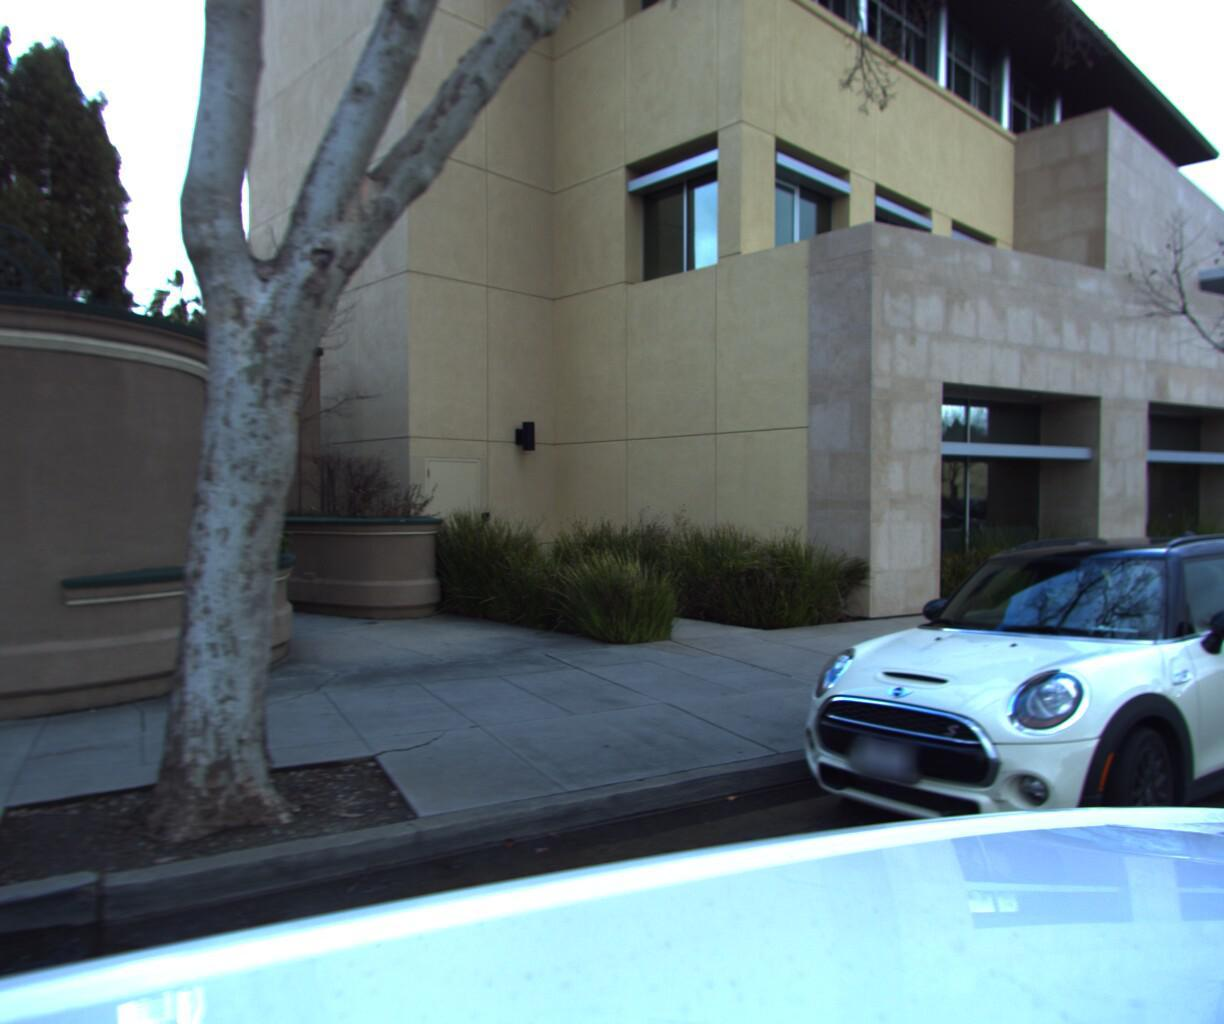car: (758, 527, 1224, 909), (913, 497, 1038, 541)
